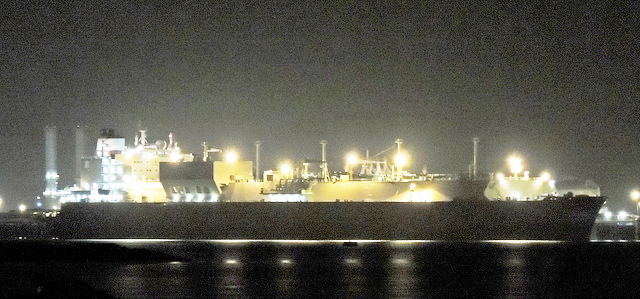LNG_ship: (57, 125, 610, 241)
